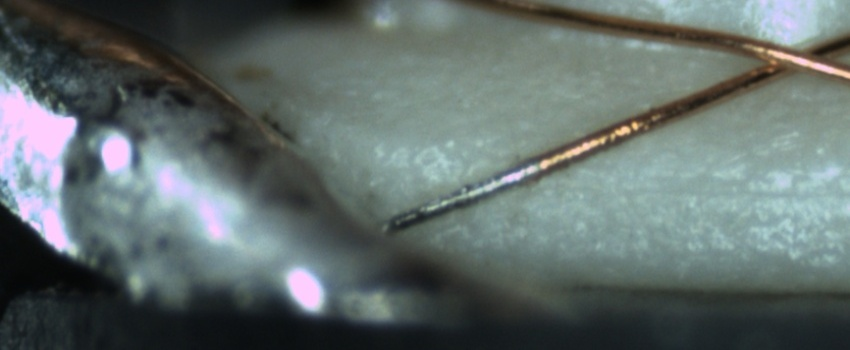CL: (745, 28, 841, 85)
DL: (542, 159, 850, 223)
TS: (382, 155, 541, 234)
